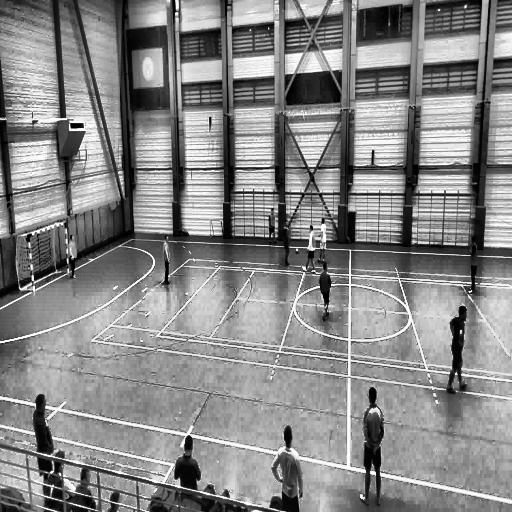ball: (295, 247, 299, 254)
player: (361, 388, 384, 506), (274, 425, 304, 512), (444, 305, 467, 392), (33, 397, 54, 487), (320, 260, 331, 320), (303, 225, 316, 275), (468, 236, 478, 294), (318, 218, 327, 264), (69, 234, 78, 279), (163, 235, 171, 285), (282, 226, 290, 265), (268, 208, 275, 244)
